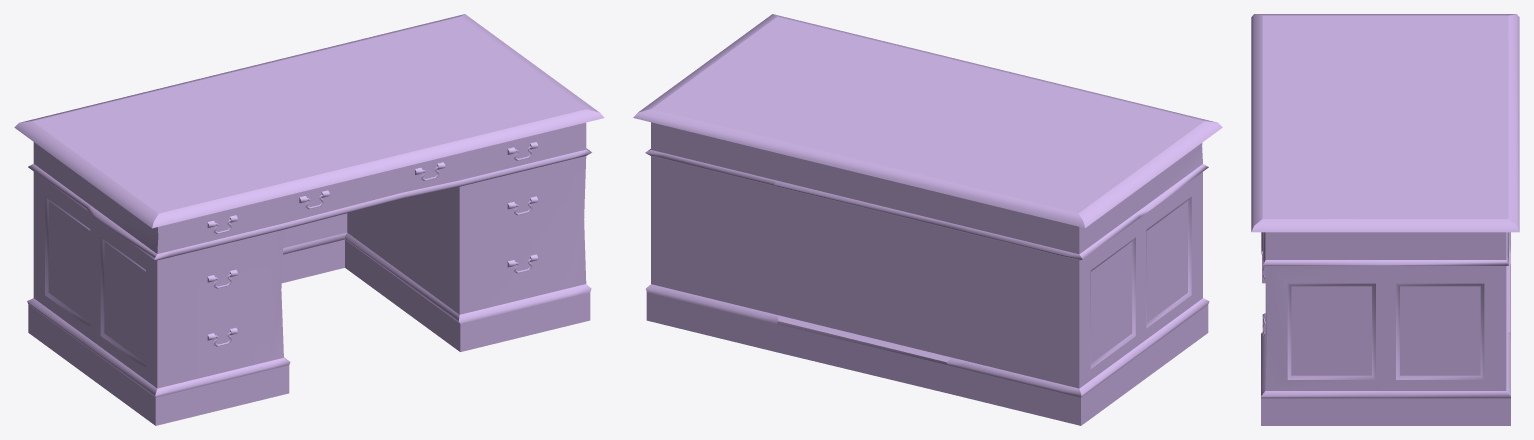
Rendered from table1.fbx.
3 renders of one model, left to right at view 1: azimuth 30°, elevation 25°; view 2: azimuth 150°, elevation 25°; view 3: azimuth 270°, elevation 25°, orthographic. The views are drawn at different scales.
Parts seen in each view (by area): view 1: Desk01; view 2: Desk01; view 3: Desk01.
Boxes of the visible parts, x1,y1,x2,y2 form: Desk01: [14, 14, 604, 425]; Desk01: [633, 14, 1222, 425]; Desk01: [1251, 14, 1519, 425].
Size of the model in its own units: 246 by 110 by 130.
